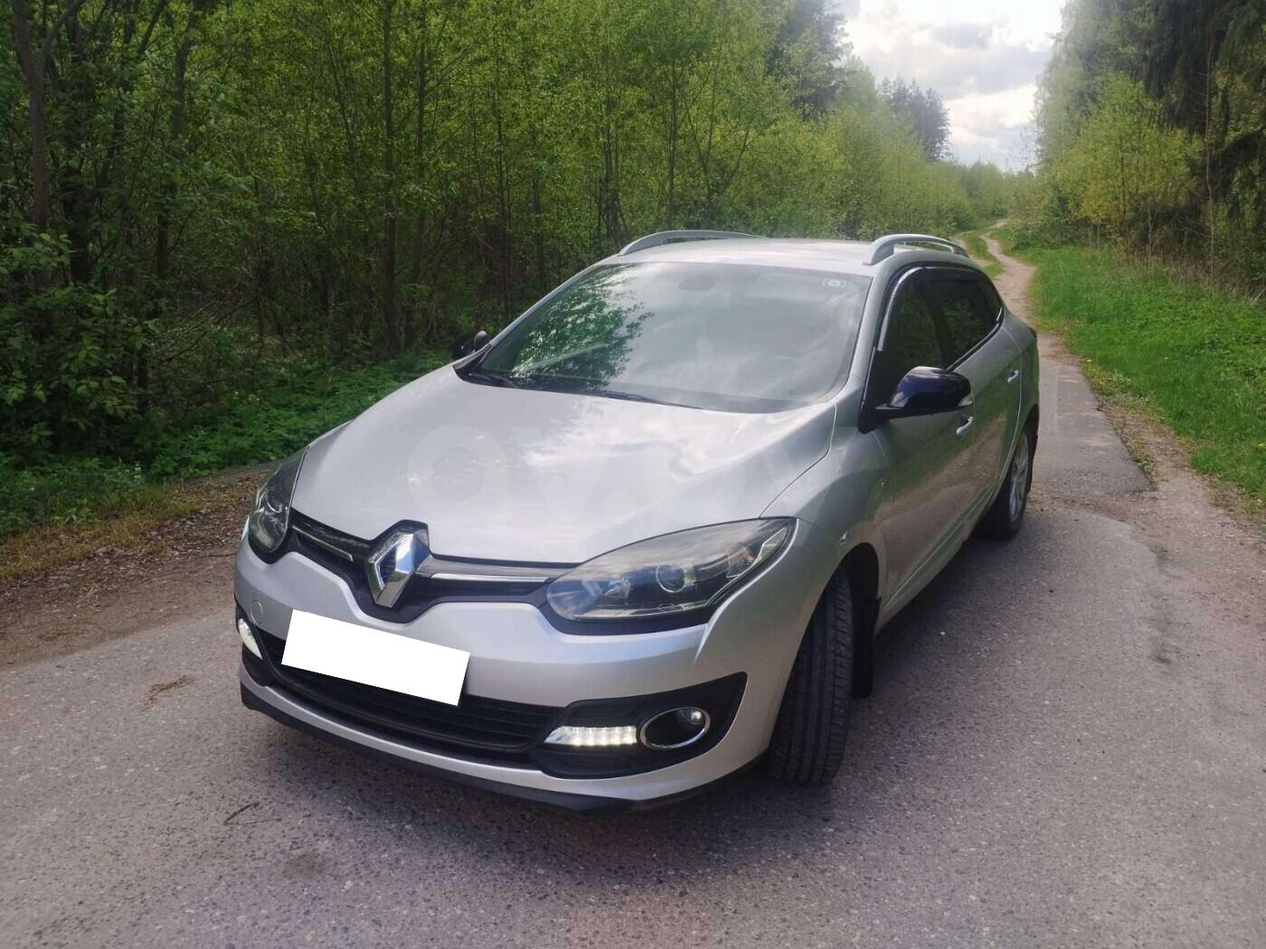Megane_2014-2016: (217, 231, 1049, 802)
